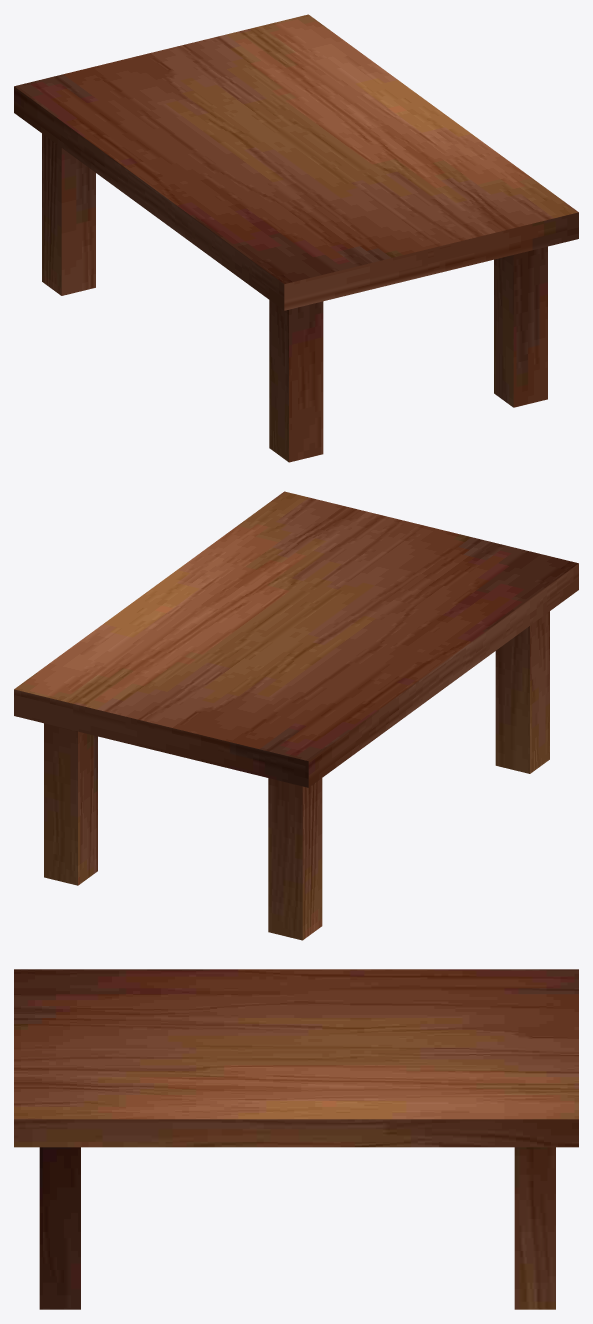
The model's file is table1.fbx.
3 renders of one model, top to bottom at view 1: azimuth 30°, elevation 25°; view 2: azimuth 150°, elevation 25°; view 3: azimuth 270°, elevation 25°, orthographic. The views are drawn at different scales.
Visible parts, largest first — view 1: table; view 2: table; view 3: table.
Part boxes in pixels (box(x1,y1,x2,y2)): table: box(14, 14, 578, 462); table: box(14, 491, 578, 940); table: box(14, 969, 578, 1309).
Bounding box in the file's own units: 937 × 582 × 1490.
Materials: 1 (1 with a texture image).
